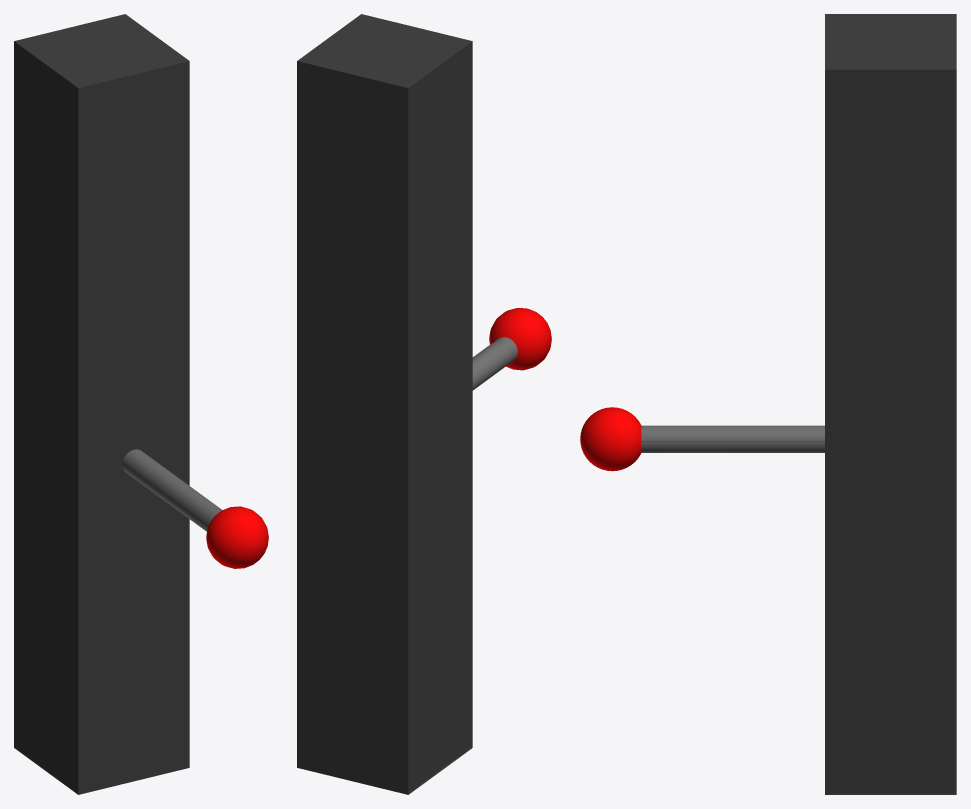
The model's file is LeverM.fbx.
The picture shows the model from 3 angles, left to right: view 1: azimuth 30°, elevation 25°; view 2: azimuth 150°, elevation 25°; view 3: azimuth 270°, elevation 25°; orthographic projection. The views are drawn at different scales.
Parts seen in each view (by area): view 1: Piller, LeverSphere, LeverCylinder; view 2: Piller, LeverSphere, LeverCylinder; view 3: Piller, LeverCylinder, LeverSphere.
Boxes of the visible parts, box(x1,y1,x2,y2) form: Piller: box(14, 14, 189, 794); LeverSphere: box(206, 506, 268, 568); LeverCylinder: box(122, 449, 222, 531); Piller: box(297, 14, 472, 794); LeverSphere: box(489, 308, 551, 370); LeverCylinder: box(472, 337, 517, 390); Piller: box(825, 14, 956, 794); LeverCylinder: box(641, 425, 824, 452); LeverSphere: box(580, 407, 641, 471).
Bounding box in the file's own units: 0.3745 × 2.27 × 1.07.
Materials: 1 (1 with a texture image).
